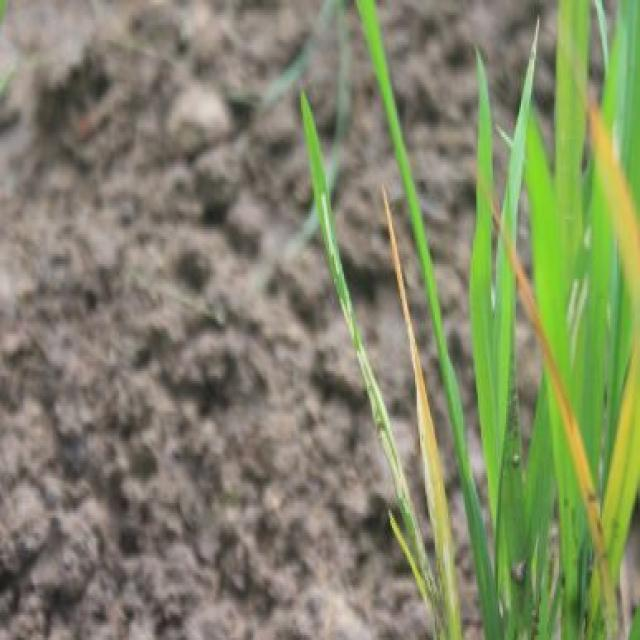Rice Tungro: (389, 213, 442, 504), (541, 360, 600, 503)
